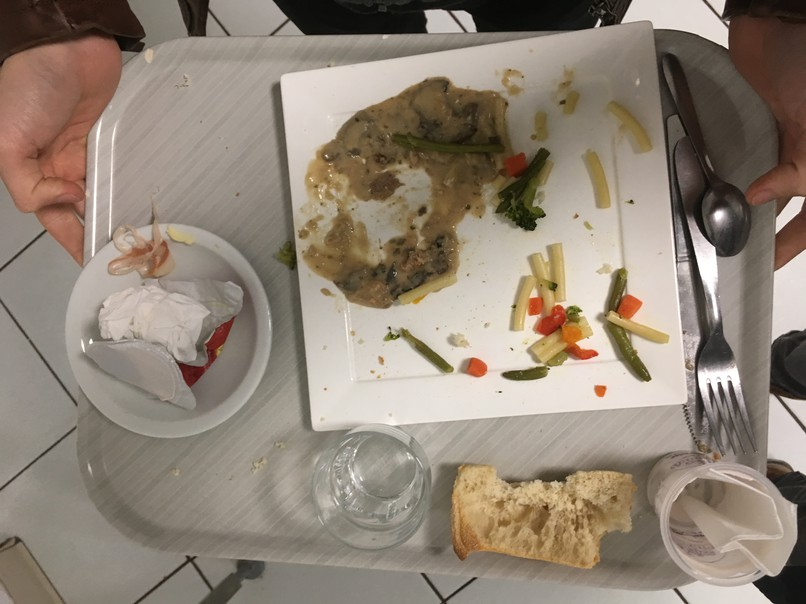orga: (314, 87, 478, 296), (502, 246, 668, 383), (454, 464, 637, 573), (507, 146, 551, 229)
trash: (647, 438, 803, 592), (84, 336, 196, 417), (103, 289, 202, 348)
